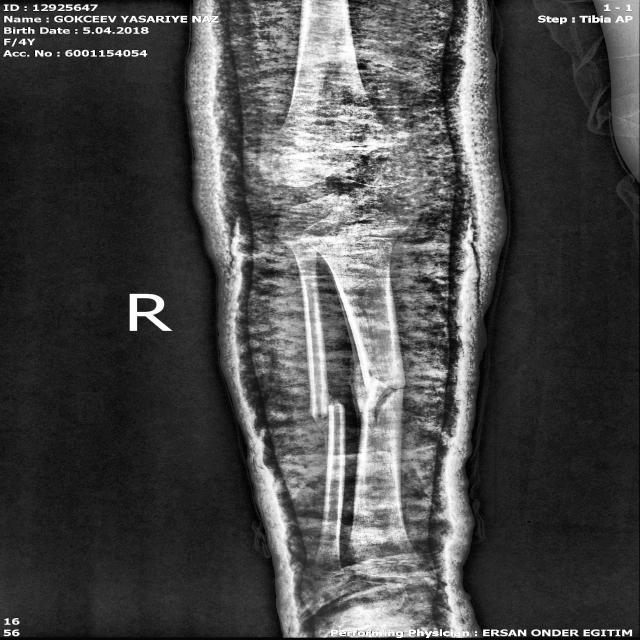Fracture: (352, 376, 440, 444), (304, 390, 350, 430)
